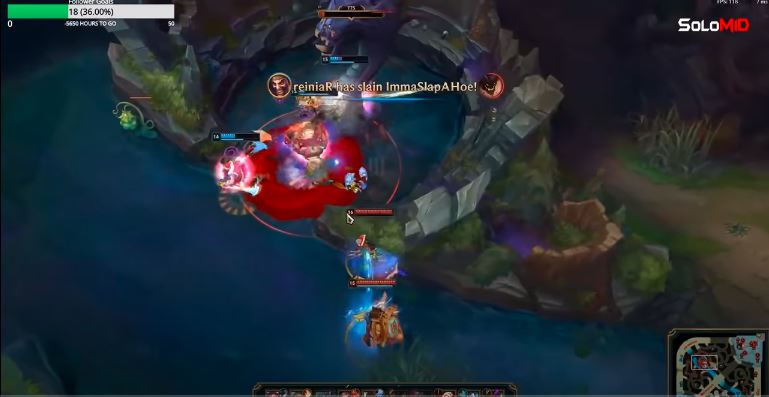bar: (210, 128, 262, 143), (348, 276, 398, 290), (285, 84, 341, 96), (345, 206, 396, 219), (319, 54, 372, 65)
